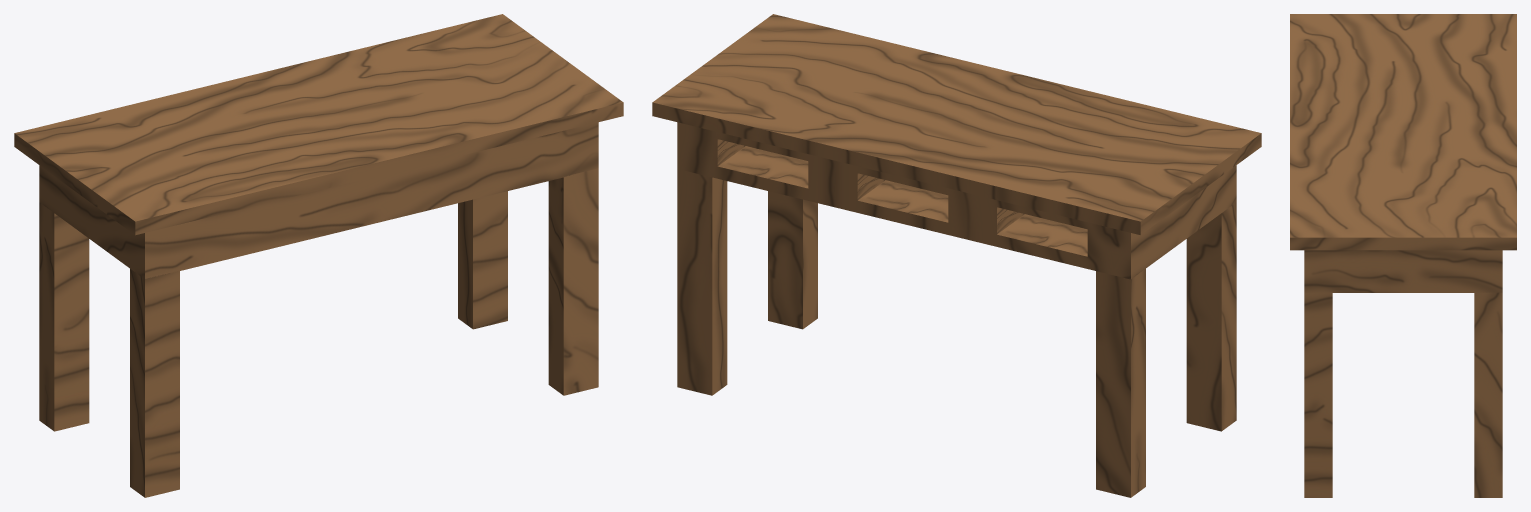
Rendered from escritorio.obj.
The picture shows the model from 3 angles, left to right: view 1: azimuth 30°, elevation 25°; view 2: azimuth 150°, elevation 25°; view 3: azimuth 270°, elevation 25°; orthographic projection. The views are drawn at different scales.
Visible parts, largest first — view 1: polySurface36; view 2: polySurface36; view 3: polySurface36.
Part boxes in pixels (box(x1,y1,x2,y2)): polySurface36: box(14, 14, 623, 497); polySurface36: box(652, 14, 1261, 497); polySurface36: box(1290, 14, 1516, 497).
Bounding box in the file's own units: 2.8 × 1.57 × 1.2.
1 material, 1 textured.
